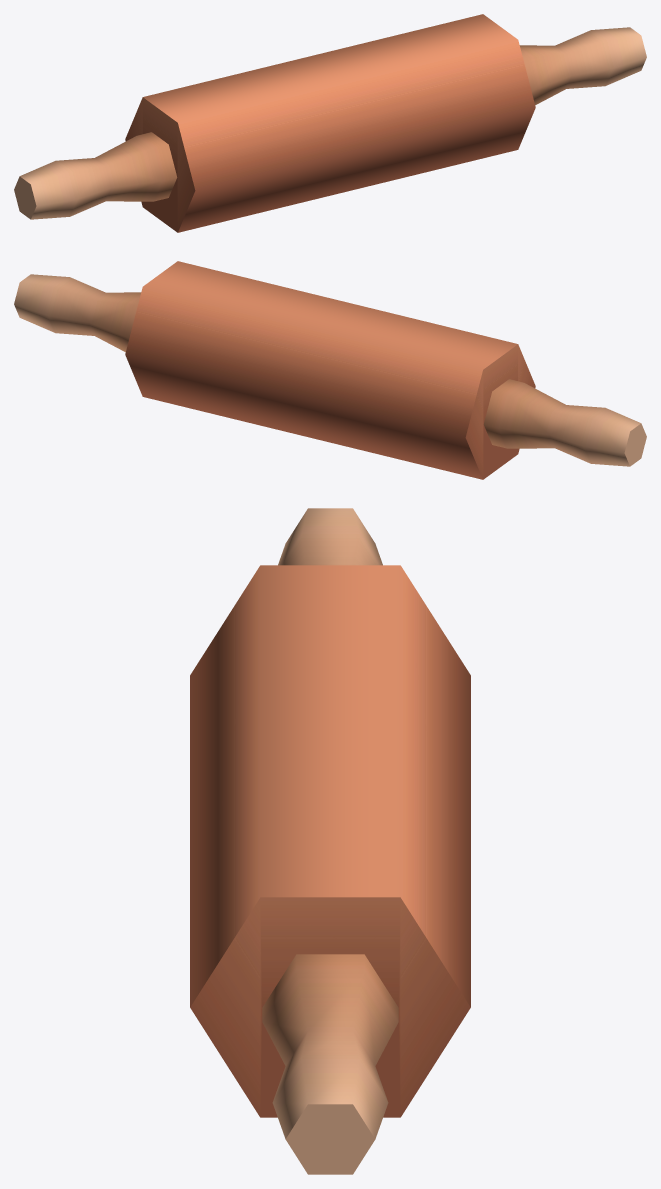
File: rolling_pin.glb
3 views of the same model, one above another, from view 1: azimuth 30°, elevation 25°; view 2: azimuth 150°, elevation 25°; view 3: azimuth 270°, elevation 25° (orthographic). The views are drawn at different scales.
Parts seen in each view (by area): view 1: rollingPin; view 2: rollingPin; view 3: rollingPin.
Part boxes in pixels (bbox=[...]): rollingPin: bbox=[14, 14, 646, 232]; rollingPin: bbox=[14, 261, 646, 479]; rollingPin: bbox=[190, 508, 470, 1174].
Size of the model in its own units: 0.8137 by 0.1402 by 0.162.
1 material, 1 textured.
